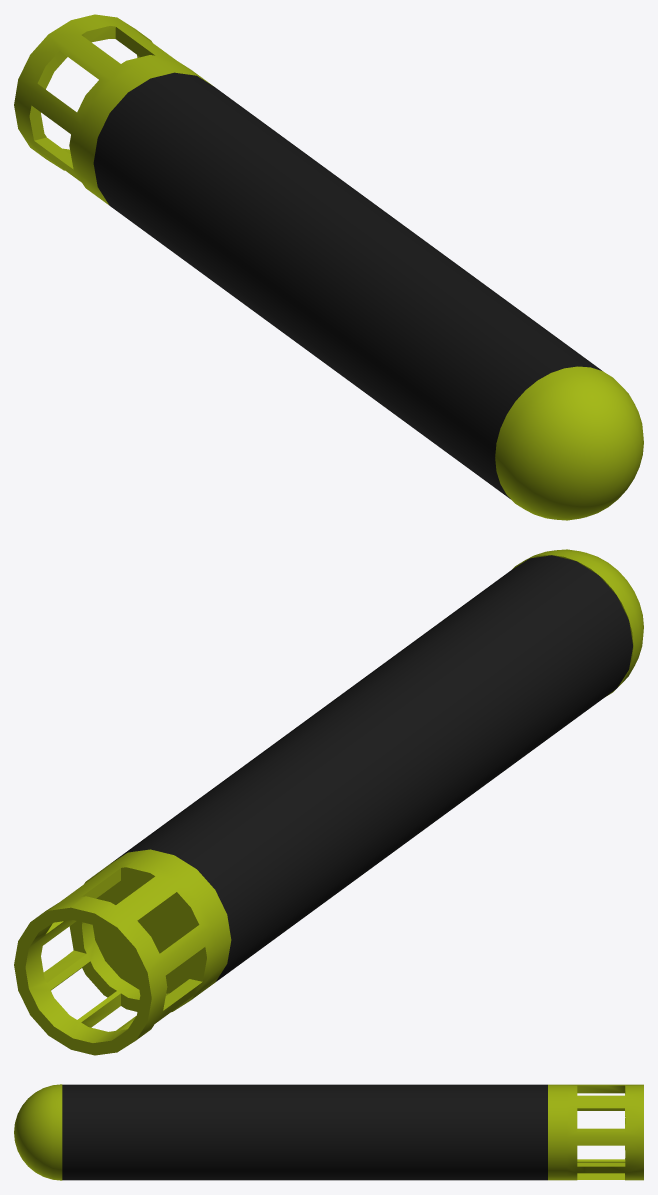
The model's file is torpedp1.FBX.
The picture shows the model from 3 angles, top to bottom: view 1: azimuth 30°, elevation 25°; view 2: azimuth 150°, elevation 25°; view 3: azimuth 270°, elevation 25°; orthographic projection. The views are drawn at different scales.
Parts seen in each view (by area): view 1: Sphere001; view 2: Sphere001; view 3: Sphere001.
Part boxes in pixels (left/top/right/bottom): Sphere001: left=14, top=14, right=643, bottom=520; Sphere001: left=14, top=549, right=643, bottom=1055; Sphere001: left=14, top=1084, right=643, bottom=1180.
Size of the model in its own units: 6.02 by 6.02 by 39.31.
